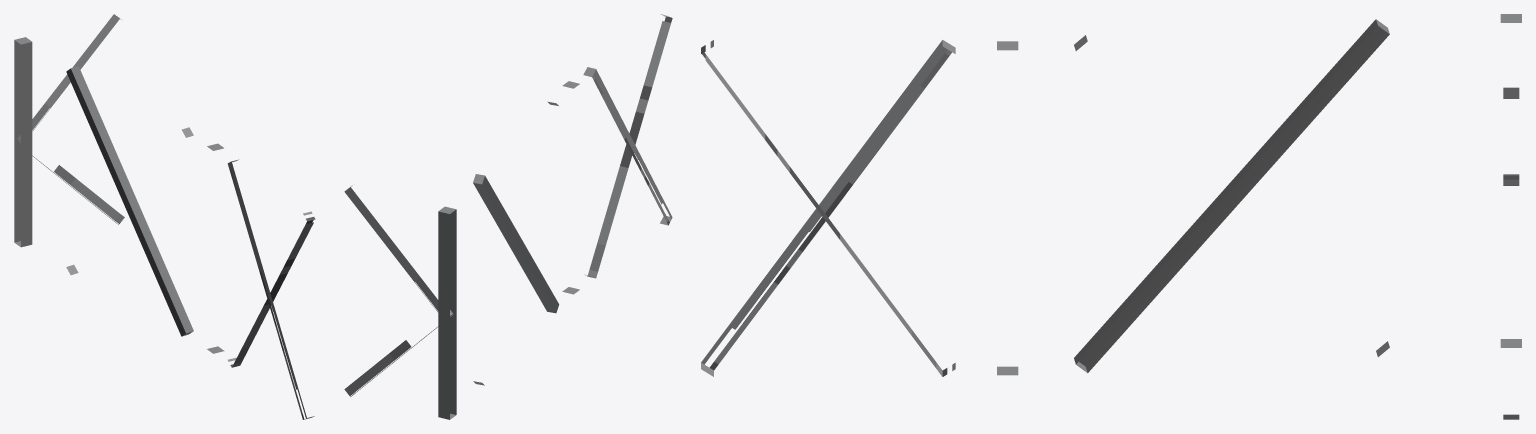
3 views of the same model, side by side, from view 1: azimuth 30°, elevation 25°; view 2: azimuth 150°, elevation 25°; view 3: azimuth 270°, elevation 25° (orthographic). The views are drawn at different scales.
Bounding box in the file's own units: 0.5507 × 1.04 × 2.33.
